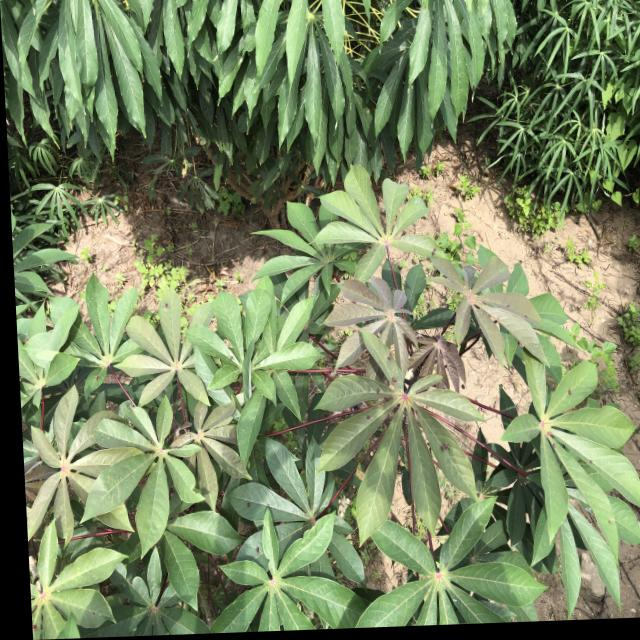Mosca: (373, 385, 397, 420), (83, 365, 110, 384), (437, 435, 456, 461), (381, 343, 400, 368), (153, 293, 174, 315), (359, 405, 376, 428), (245, 492, 260, 513), (390, 370, 403, 394), (561, 384, 579, 401)
